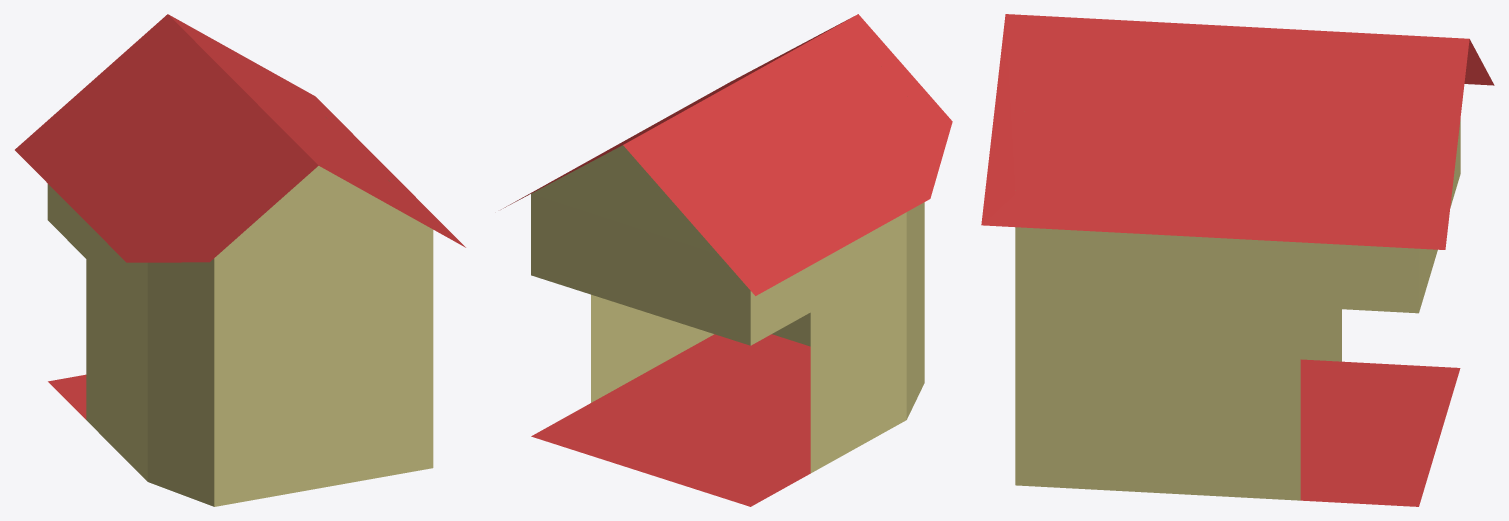
The picture shows the model from 3 angles, left to right: view 1: azimuth 30°, elevation 25°; view 2: azimuth 150°, elevation 25°; view 3: azimuth 270°, elevation 25°; orthographic projection. The views are drawn at different scales.
Size of the model in its own units: 10.63 by 12.61 by 10.89.
